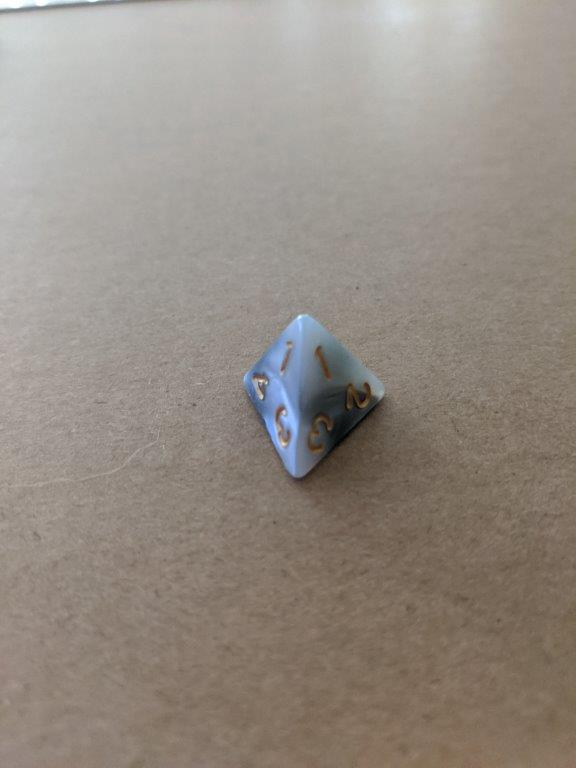d4-1: (236, 309, 392, 482)
